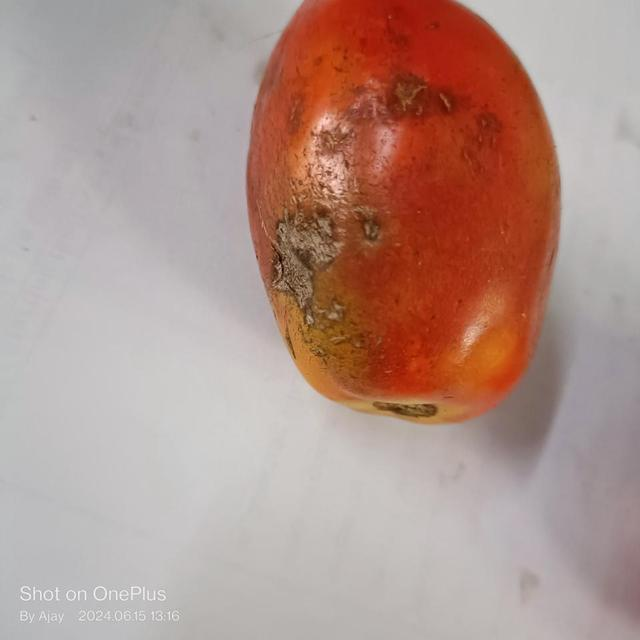Bacterial Spot Fruit: (14, 20, 257, 176)
